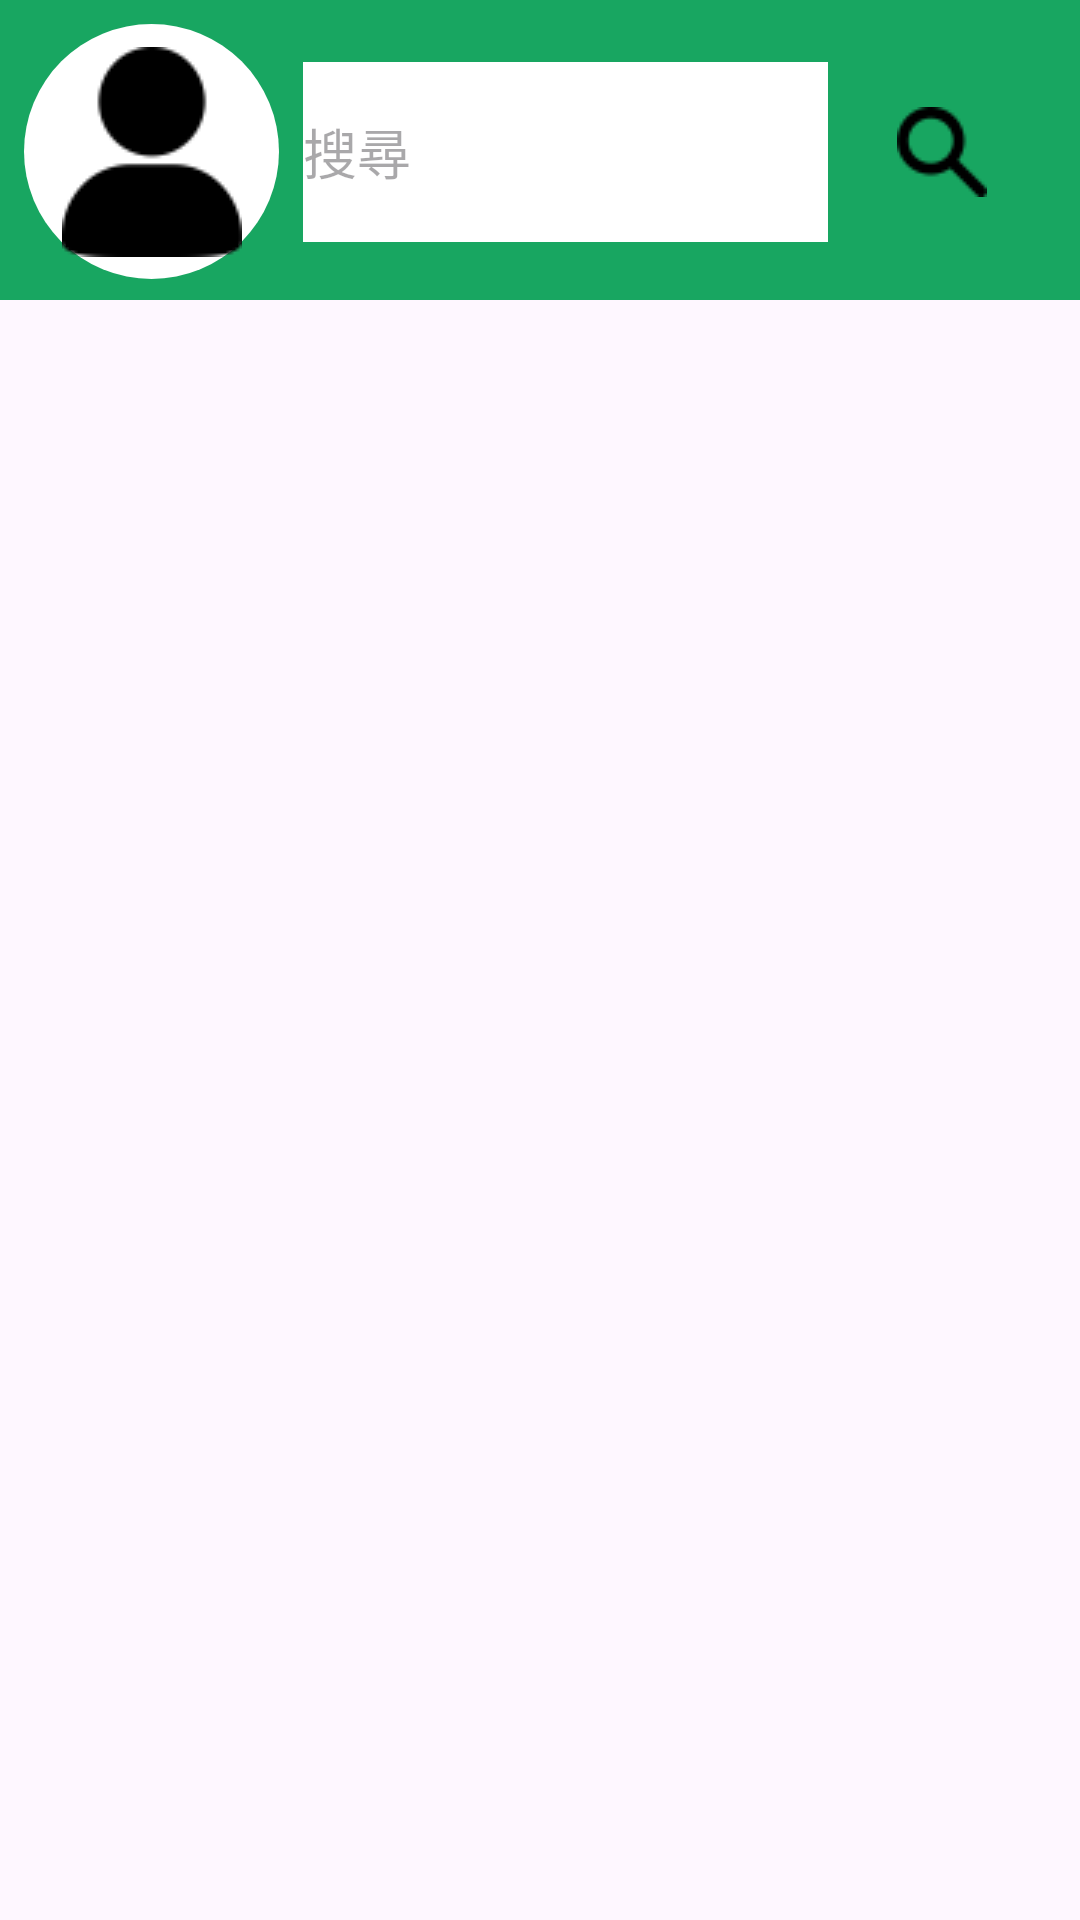

Icon bounding boxes for this 1080 x 1920 phone screenshot, format (x1, y1, x2, y2):
human: (24, 24, 279, 279)
search: (897, 107, 987, 197)
